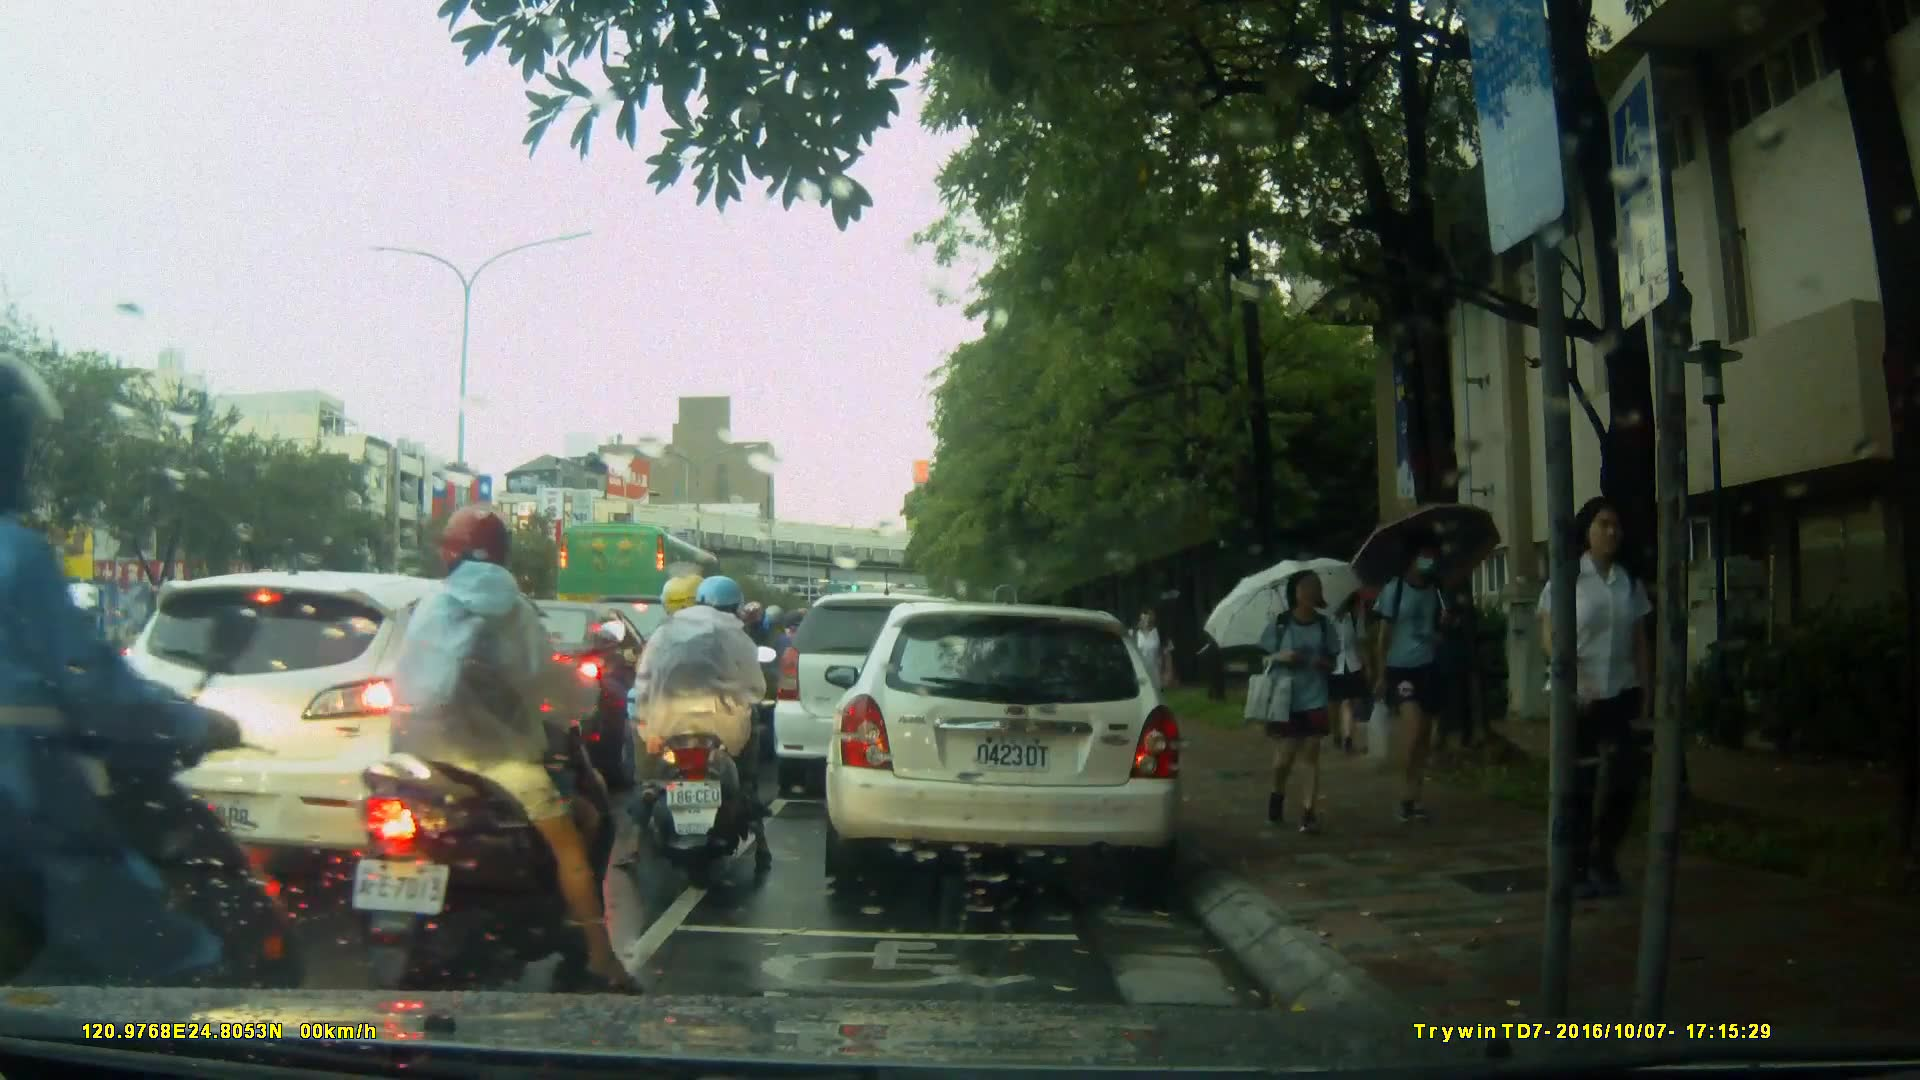pedestrian: (1532, 491, 1662, 906), (1351, 536, 1474, 836), (1249, 562, 1355, 848), (1128, 599, 1173, 751)
rider: (1, 381, 324, 1071), (349, 504, 645, 997), (614, 576, 777, 881), (661, 588, 762, 810)
vehicle: (96, 569, 591, 883), (822, 604, 1186, 883), (774, 595, 995, 802), (556, 520, 740, 665), (20, 576, 199, 697)
